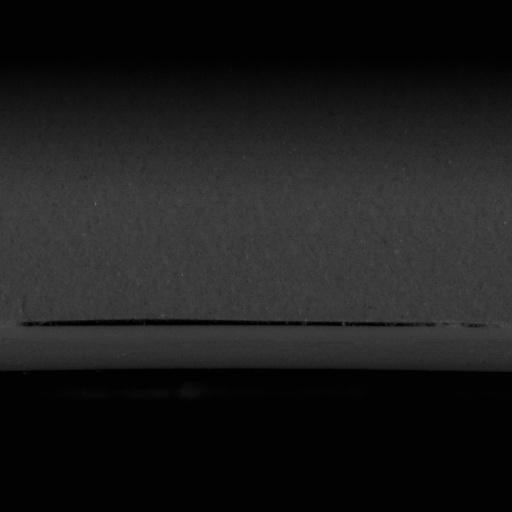jiaofeng: (19, 314, 490, 335)
